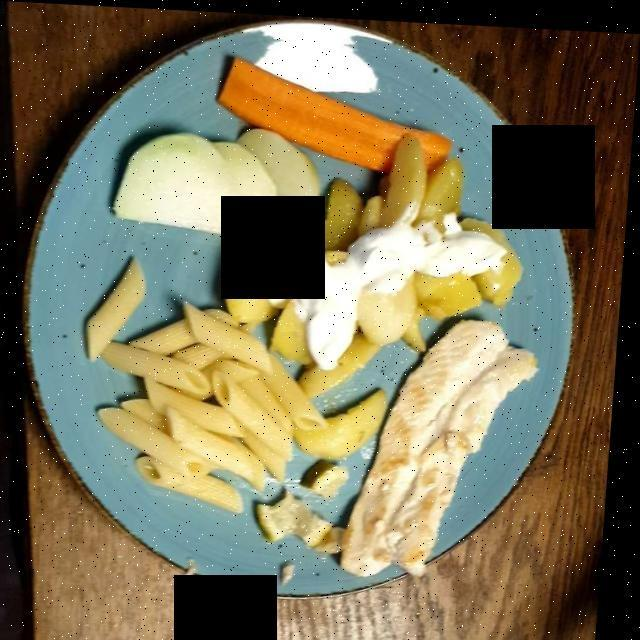carrot: (226, 53, 436, 164)
fish: (354, 318, 538, 571)
kolhrabi: (100, 123, 318, 247)
pasta: (84, 246, 329, 512)
potatoes: (233, 135, 515, 382)
